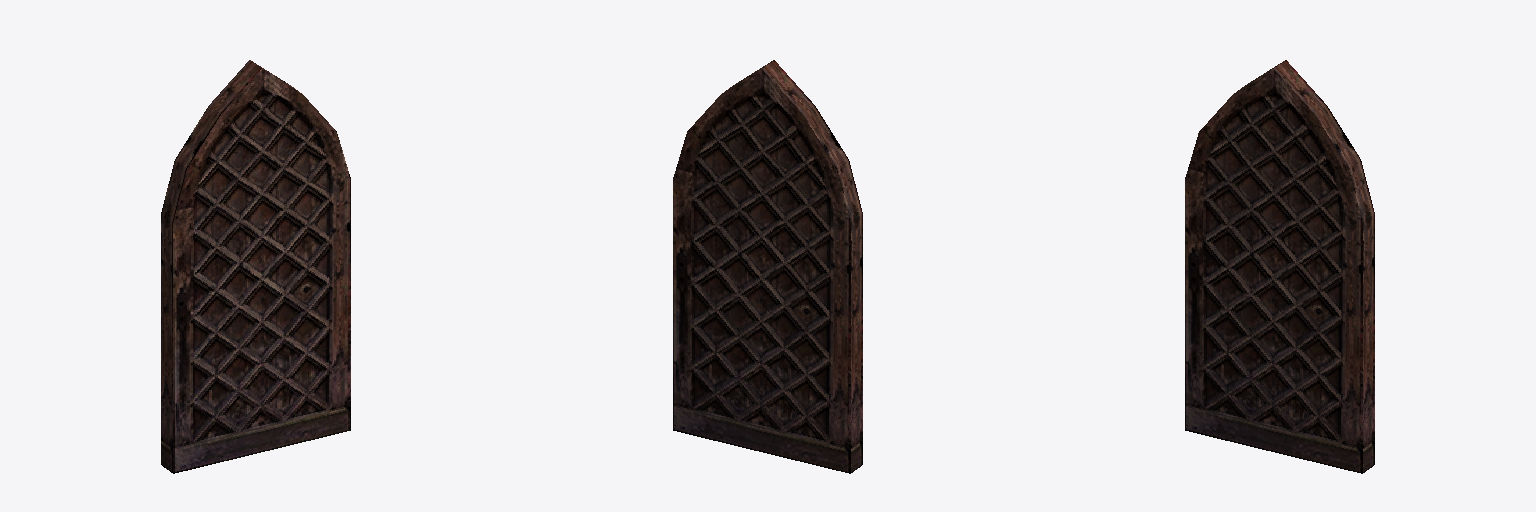
The picture shows the model from 3 angles: view 1: azimuth 30°, elevation 25°; view 2: azimuth 150°, elevation 25°; view 3: azimuth 330°, elevation 25°; orthographic projection.
Visible parts, largest first — view 1: Object002; view 2: Object002; view 3: Object002.
Part boxes in pixels (x1,y1,x2,y2): Object002: (161,60,350,473); Object002: (673,60,862,473); Object002: (1185,60,1374,473).
Bounding box in the file's own units: 909 × 1874 × 109.
Materials: 1 (1 with a texture image).